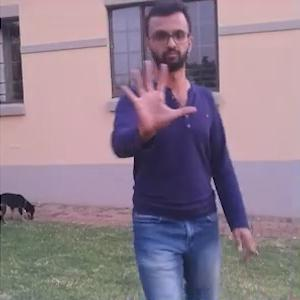follow_hand: (112, 53, 199, 133)
